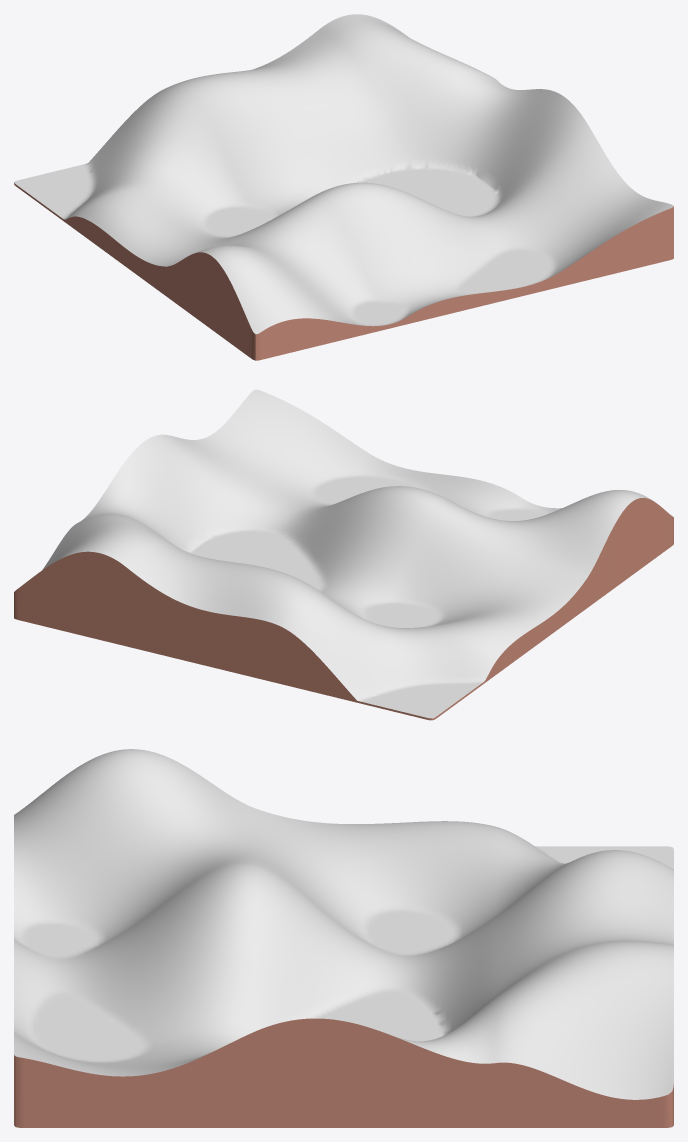
Rendered from terrain2.fbx.
The picture shows the model from 3 angles, top to bottom: view 1: azimuth 30°, elevation 25°; view 2: azimuth 150°, elevation 25°; view 3: azimuth 270°, elevation 25°; orthographic projection. The views are drawn at different scales.
Visible parts, largest first — view 1: Plane.002; view 2: Plane.002; view 3: Plane.002.
Part boxes in pixels (bbox=[...]): Plane.002: bbox=[14, 14, 673, 360]; Plane.002: bbox=[14, 389, 673, 720]; Plane.002: bbox=[14, 749, 673, 1127].
Size of the model in its own units: 2400 by 481 by 2400.
